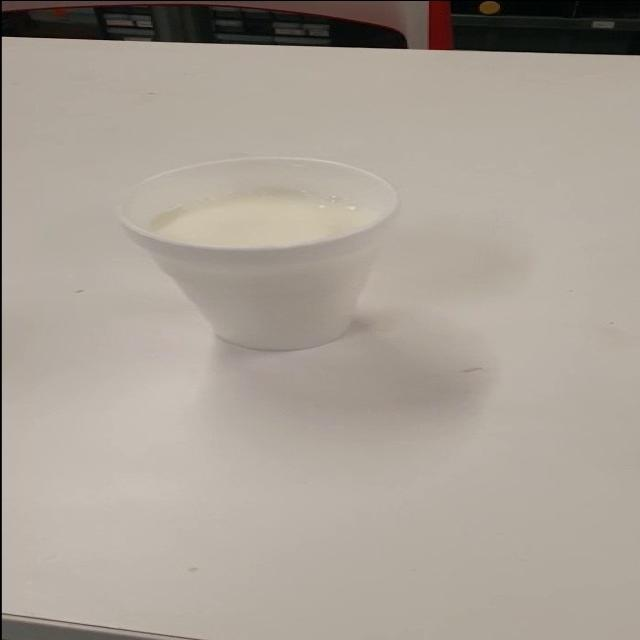Milk: (102, 140, 446, 370)
